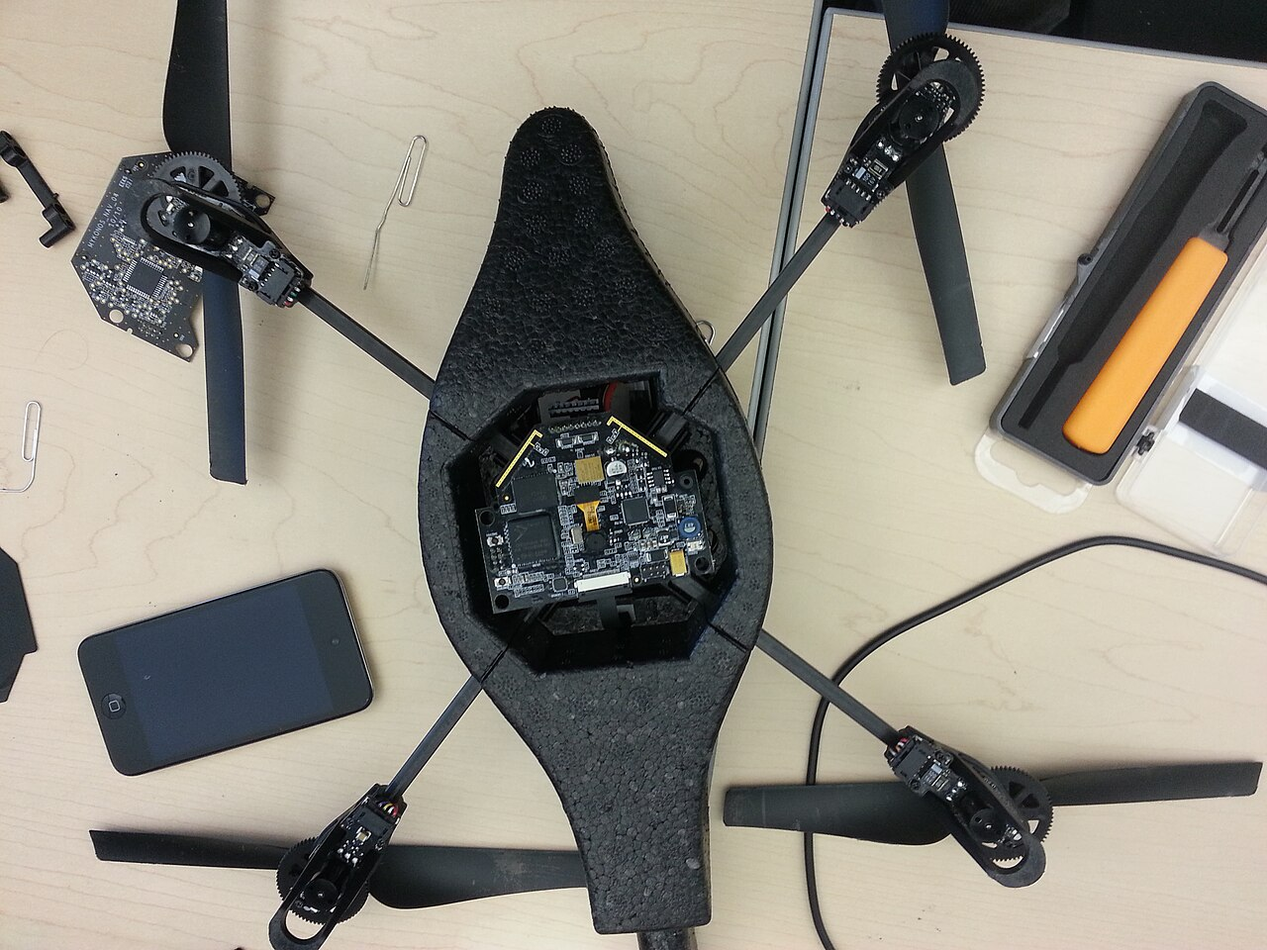drone: (71, 0, 1263, 950)
